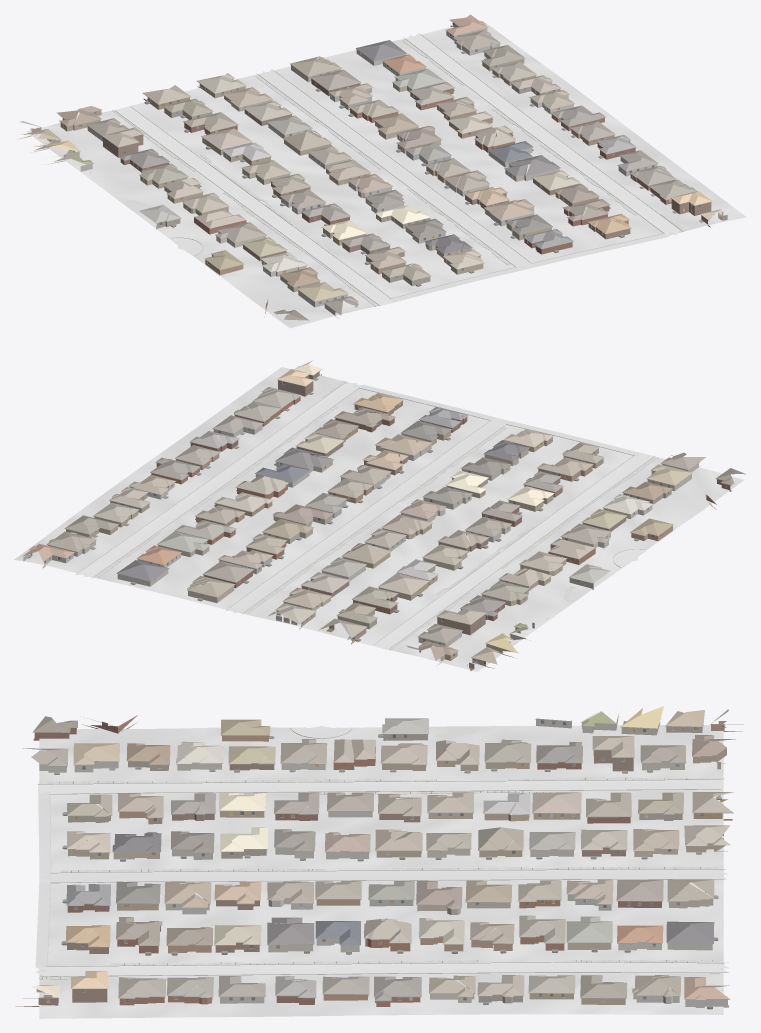
3 renders of one model, top to bottom at view 1: azimuth 30°, elevation 25°; view 2: azimuth 150°, elevation 25°; view 3: azimuth 270°, elevation 25°, orthographic. The views are drawn at different scales.
Visible parts, largest first — view 1: ground, roof, concrete, wall, detail, walk, curb, wall_stone, wall_stucco, glass; view 2: ground, roof, concrete, wall, detail, walk, curb, wall_stone, wall_stucco, glass; view 3: ground, roof, concrete, wall, detail, walk, curb, wall_stone, wall_stucco, glass.
Part boxes in pixels (bbox=[...]): ground: bbox=[27, 21, 746, 328]; roof: bbox=[20, 14, 721, 320]; concrete: bbox=[116, 33, 679, 305]; wall: bbox=[18, 52, 711, 313]; detail: bbox=[27, 20, 712, 314]; walk: bbox=[112, 40, 686, 305]; curb: bbox=[114, 34, 682, 306]; wall_stone: bbox=[80, 23, 657, 317]; wall_stucco: bbox=[46, 62, 573, 276]; glass: bbox=[63, 22, 700, 301]; ground: bbox=[14, 367, 744, 671]; roof: bbox=[22, 360, 745, 664]; concrete: bbox=[75, 383, 653, 648]; wall: bbox=[66, 371, 731, 668]; detail: bbox=[23, 369, 731, 666]; walk: bbox=[96, 380, 657, 650]; curb: bbox=[76, 381, 658, 648]; wall_stone: bbox=[31, 425, 701, 639]; wall_stucco: bbox=[129, 461, 652, 657]; glass: bbox=[44, 377, 727, 663]; ground: bbox=[39, 725, 723, 1018]; roof: bbox=[22, 706, 735, 1000]; concrete: bbox=[35, 726, 729, 976]; wall: bbox=[15, 715, 742, 1006]; detail: bbox=[23, 718, 743, 1009]; walk: bbox=[39, 728, 724, 979]; curb: bbox=[38, 728, 728, 979]; wall_stone: bbox=[39, 713, 728, 1007]; wall_stucco: bbox=[172, 722, 713, 1002]; glass: bbox=[73, 720, 703, 1001].
Bounding box in the file's own units: 262 × 10.63 × 268.
